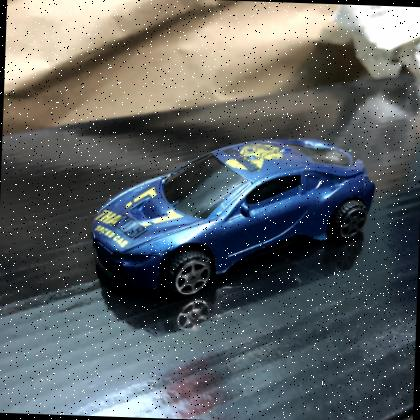Car: (91, 139, 376, 298)
